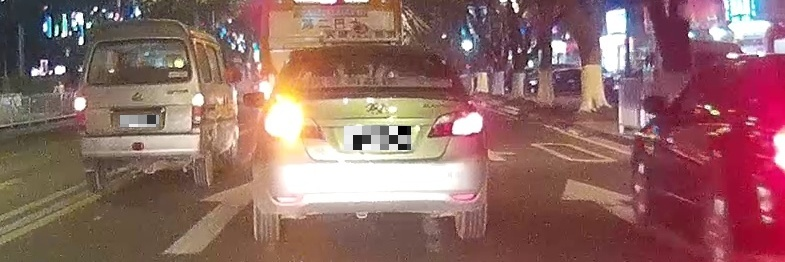L_light: (264, 102, 325, 140), (73, 96, 87, 127)
R_light: (426, 104, 486, 138), (191, 93, 204, 127)
T_light: (362, 47, 400, 54), (125, 82, 150, 86)
night-left: (252, 43, 486, 241)
night-no: (73, 19, 205, 190)
plate_1: (120, 115, 159, 127)
plate_2: (344, 126, 411, 150)
